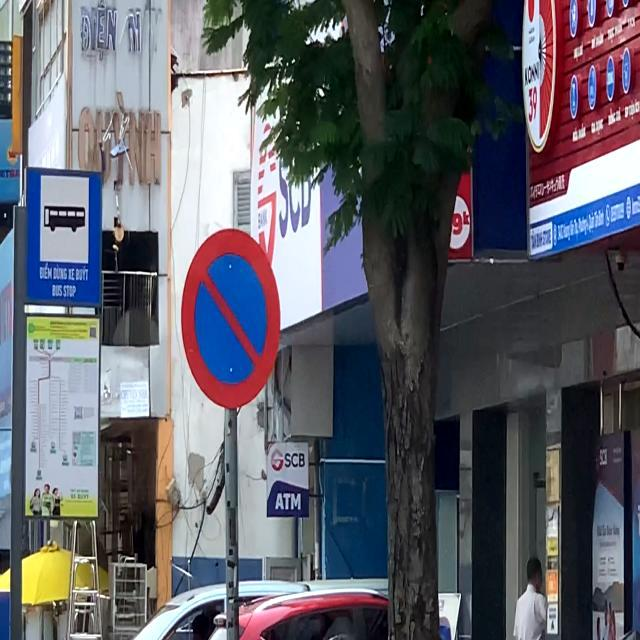Cam do xe: (182, 222, 280, 412)
